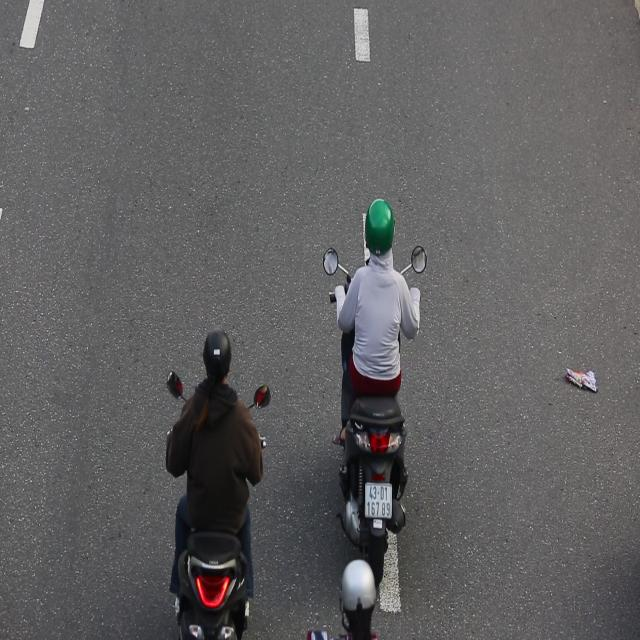motorbike: (317, 189, 432, 582)
